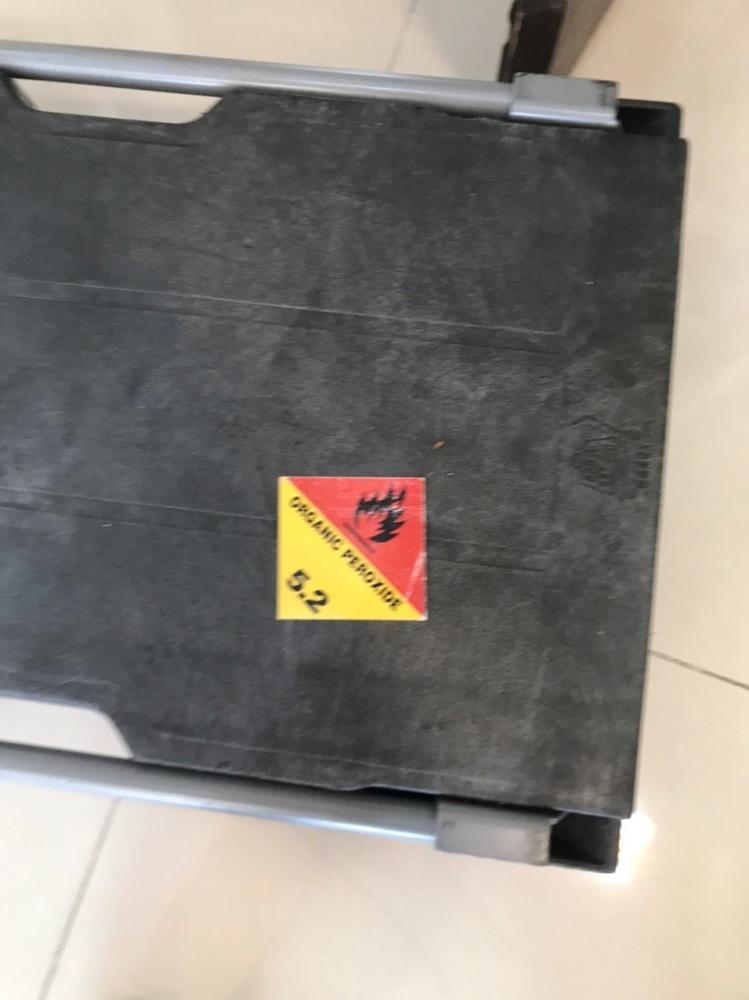organic-peroxide: (272, 474, 427, 624)
